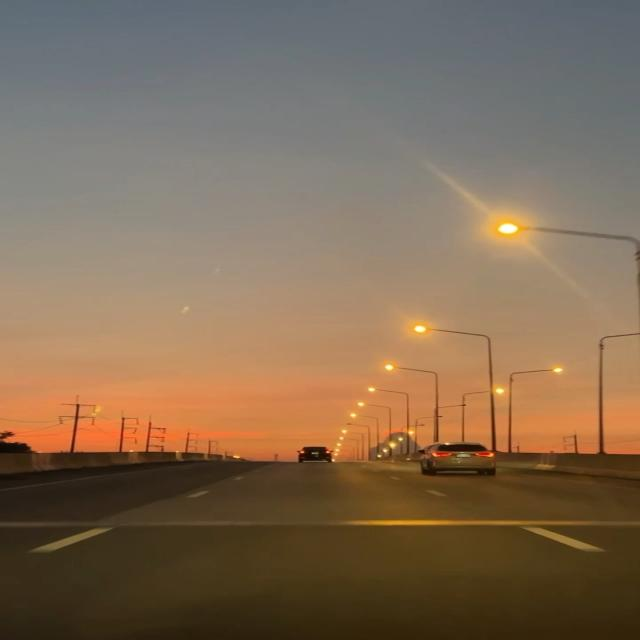Poth-hole: (103, 480, 475, 618)
